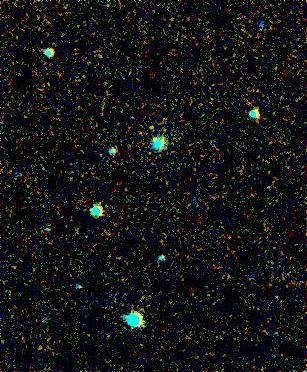star: (135, 107, 165, 137)
